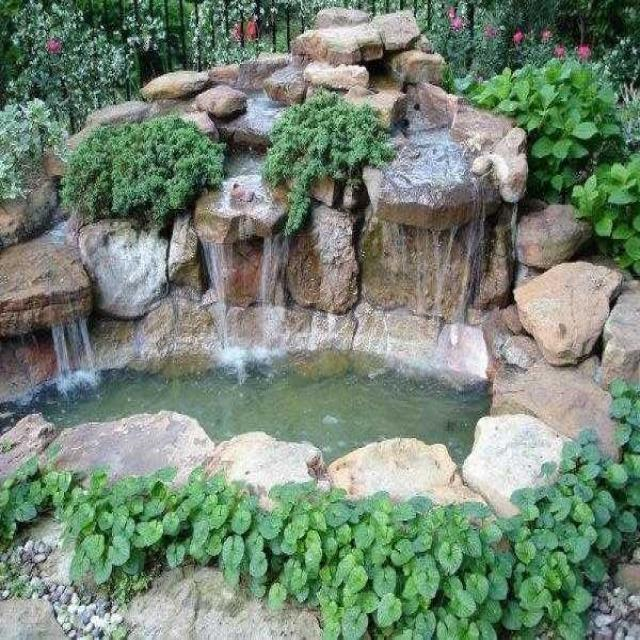Ponds: (1, 287, 578, 516)
